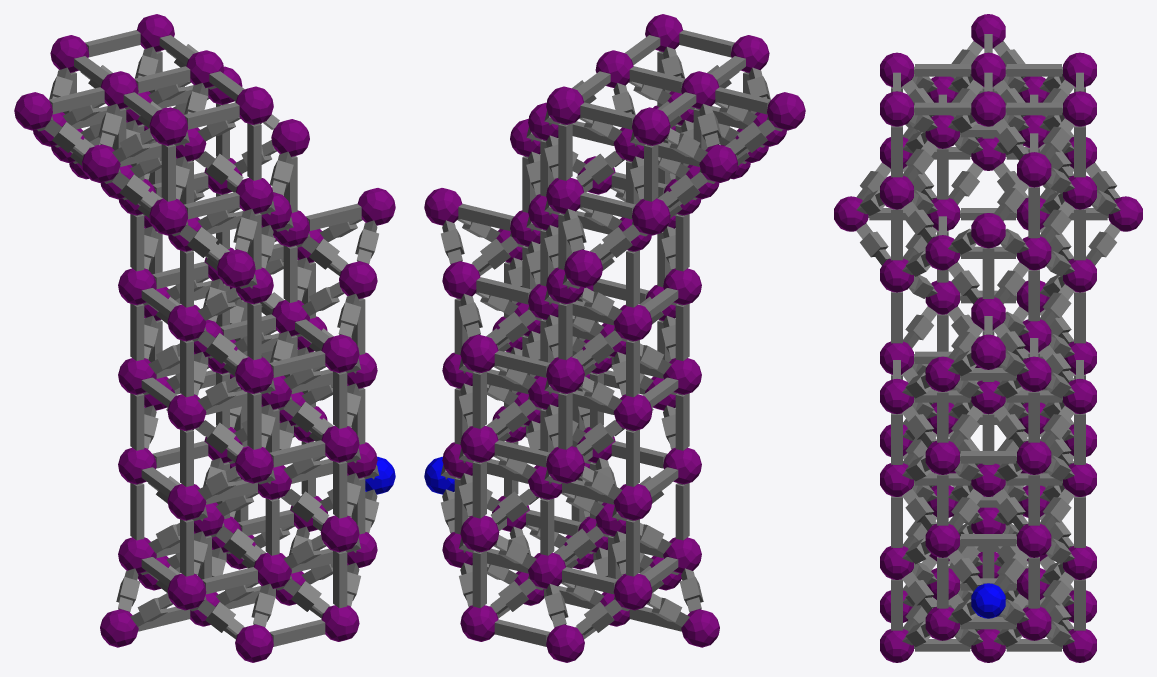
Rendered from fake_energy_1500_10000(angle).obj.
3 views of the same model, side by side, from view 1: azimuth 30°, elevation 25°; view 2: azimuth 150°, elevation 25°; view 3: azimuth 270°, elevation 25° (orthographic). The views are drawn at different scales.
Size of the model in its own units: 207 by 301 by 160.
